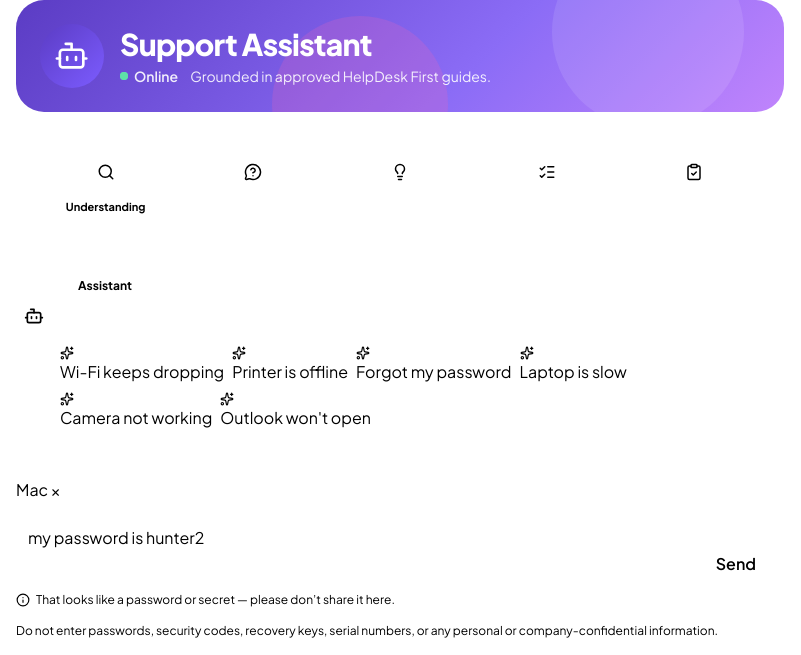
AssistantWorkspace › warns about secrets, clears the input, and does not echo them
The image size is (801, 655).
Step 1. Click the button "Send" → click(736, 564), box [688, 542, 784, 586]
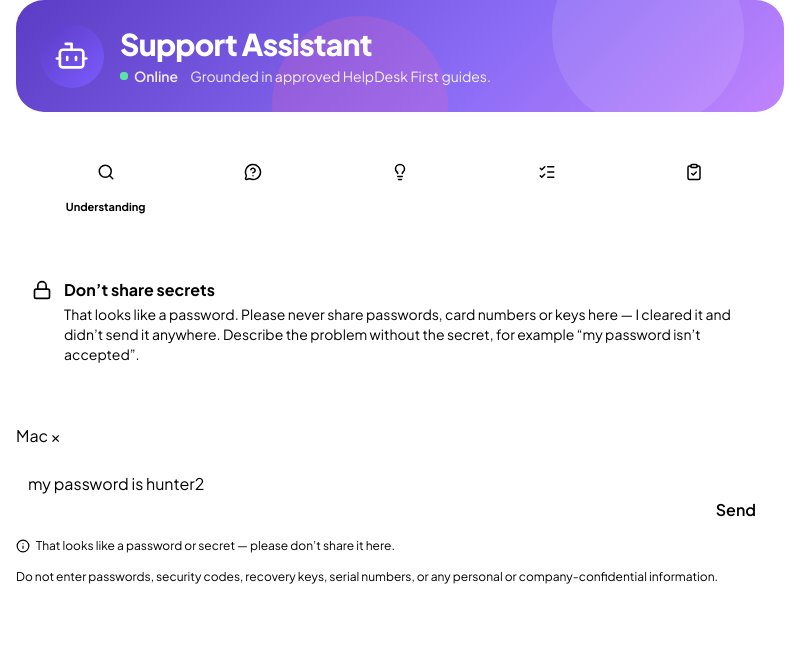
Check: the message shows "Don’t share secrets", box [64, 279, 215, 300]
